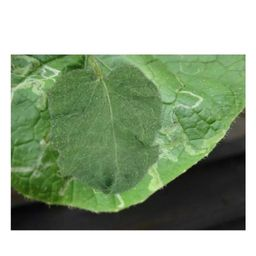liriomyza: (10, 56, 61, 97), (11, 157, 43, 177), (174, 89, 203, 110), (147, 160, 162, 190), (56, 175, 76, 196), (114, 192, 126, 208)
